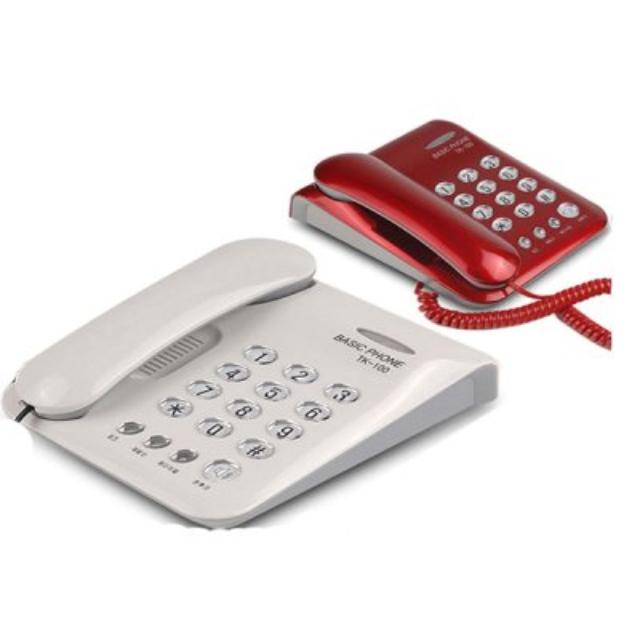Telephone-Set: (0, 238, 502, 530), (290, 121, 610, 311)
